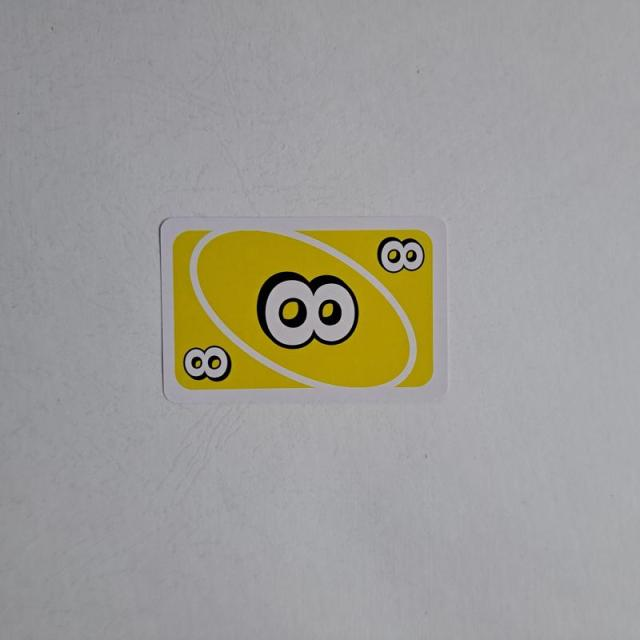Number_8: (375, 224, 429, 285)
Yellow_Card: (168, 219, 441, 396)
